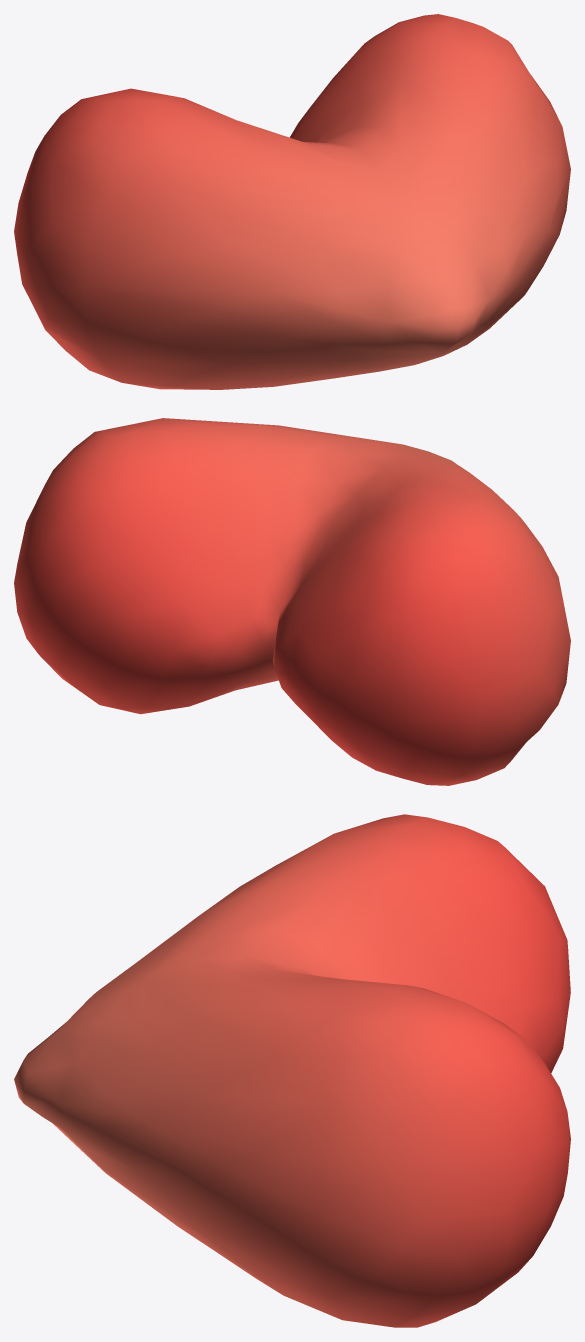
Rendered from item_heart.fbx.
The picture shows the model from 3 angles, top to bottom: view 1: azimuth 30°, elevation 25°; view 2: azimuth 150°, elevation 25°; view 3: azimuth 270°, elevation 25°; orthographic projection. The views are drawn at different scales.
Parts seen in each view (by area): view 1: heart; view 2: heart; view 3: heart.
Boxes of the visible parts, x1,y1,x2,y2 form: heart: [14, 14, 570, 389]; heart: [14, 418, 570, 785]; heart: [14, 814, 570, 1327].
Size of the model in its own units: 214 by 107 by 170.
